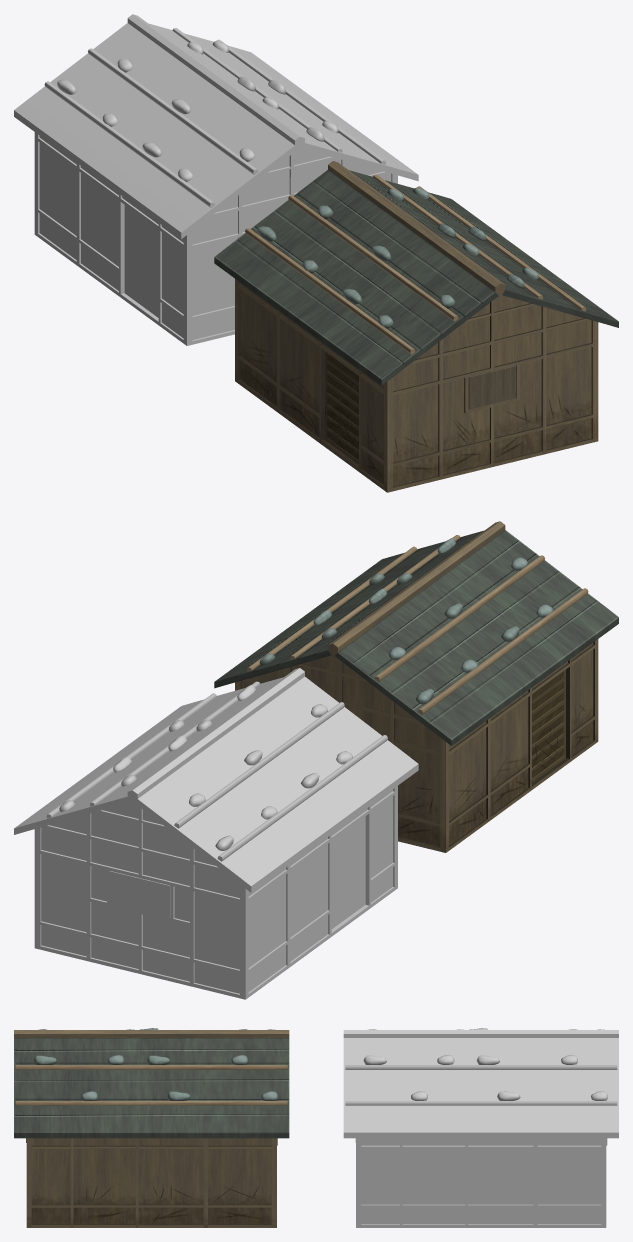
The model's file is BgMD_Akimoto_House_1.fbx.
The picture shows the model from 3 angles, top to bottom: view 1: azimuth 30°, elevation 25°; view 2: azimuth 150°, elevation 25°; view 3: azimuth 270°, elevation 25°; orthographic projection. The views are drawn at different scales.
Parts seen in each view (by area): view 1: BgMD_Akimoto_House_1_1_01, BgMD_Akimoto_House_1_2_01; view 2: BgMD_Akimoto_House_1_2_01, BgMD_Akimoto_House_1_1_01; view 3: BgMD_Akimoto_House_1_2_01, BgMD_Akimoto_House_1_1_01.
Boxes of the visible parts, x1,y1,x2,y2 form: BgMD_Akimoto_House_1_1_01: [214, 161, 618, 492]; BgMD_Akimoto_House_1_2_01: [14, 14, 418, 345]; BgMD_Akimoto_House_1_2_01: [14, 668, 418, 999]; BgMD_Akimoto_House_1_1_01: [214, 521, 618, 852]; BgMD_Akimoto_House_1_2_01: [343, 1028, 618, 1227]; BgMD_Akimoto_House_1_1_01: [14, 1028, 289, 1227].
Bounding box in the file's own units: 450 × 343 × 1208.
